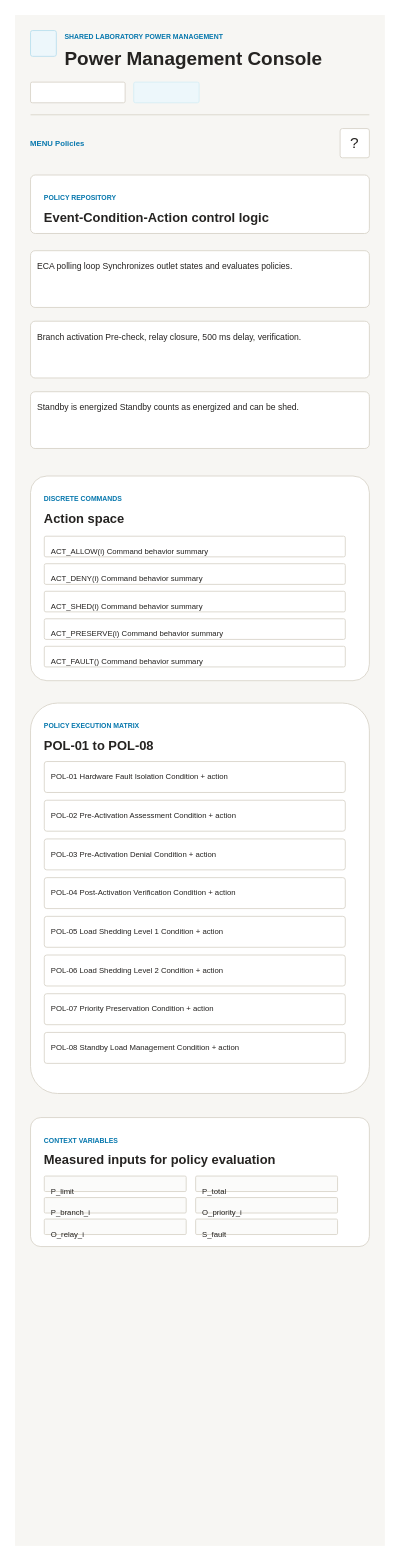
The diagram is 399 pixels wide and 1560 high, and some of its shapes have lost their labels. Each missing label, with the box of its shape:
NORMAL: (133, 81, 199, 103)
REPLAY INTRO: (30, 81, 125, 103)
